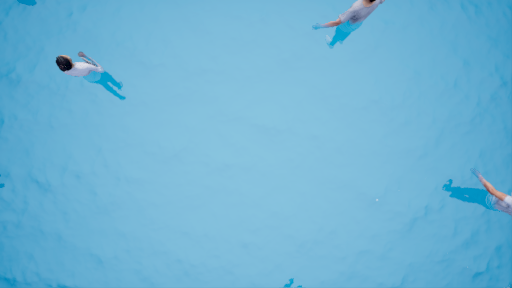person: (442, 165, 512, 222), (52, 51, 128, 102), (312, 1, 384, 51)
